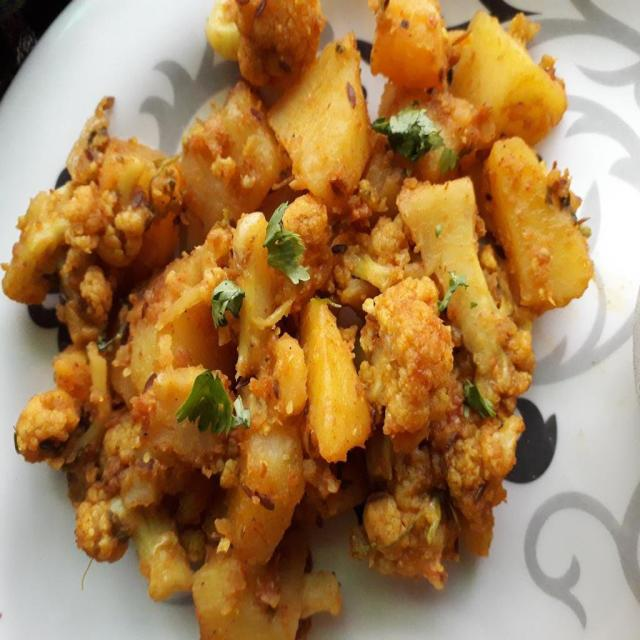aloo_gobi: (3, 36, 580, 640)
